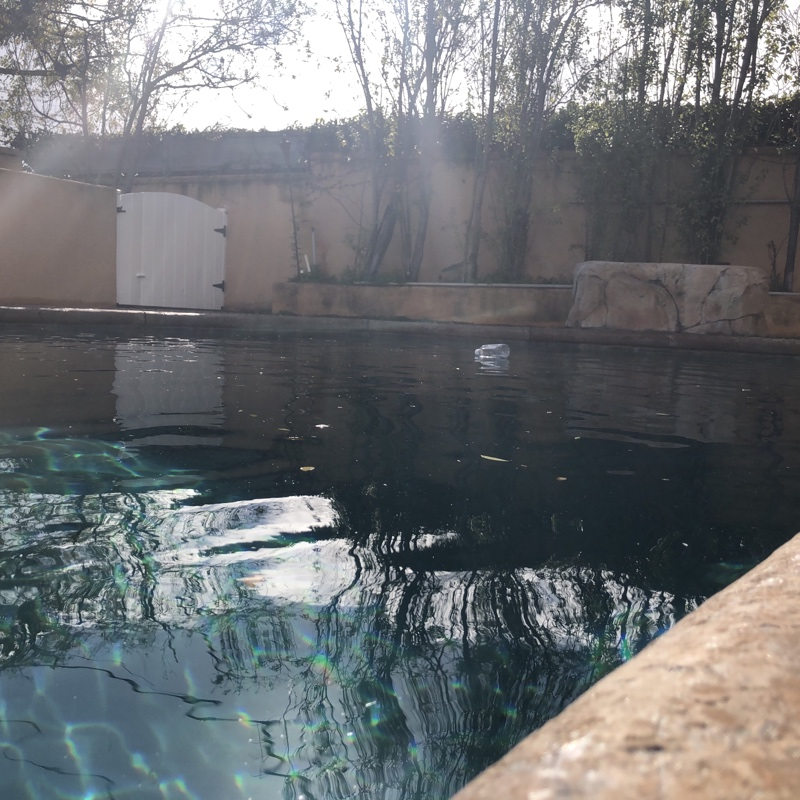Plastic Bottle: (473, 341, 509, 360)
